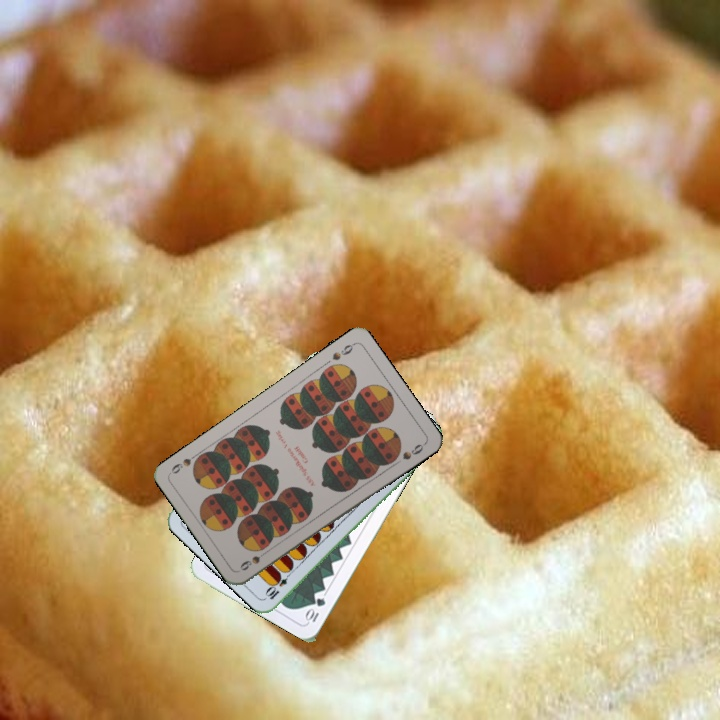E10: (262, 567, 295, 602)
G10: (302, 593, 328, 625)
S9: (236, 545, 272, 573), (328, 339, 357, 363)
